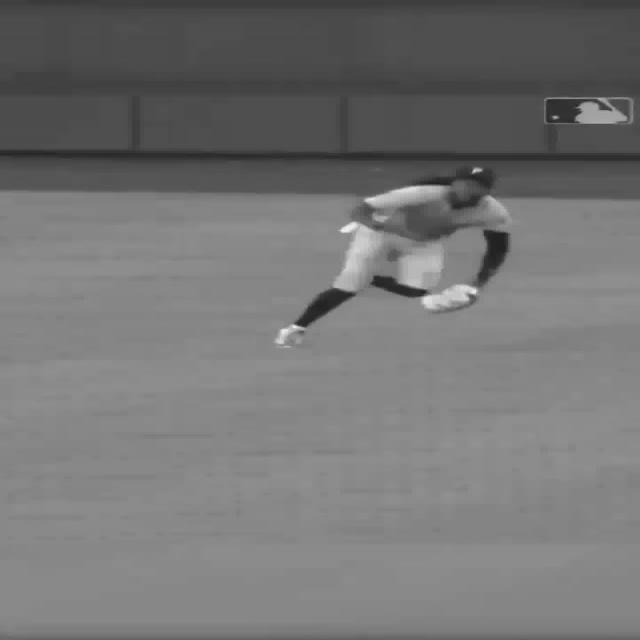baseball_glove: (420, 290, 478, 313)
shoe: (266, 326, 304, 351)
